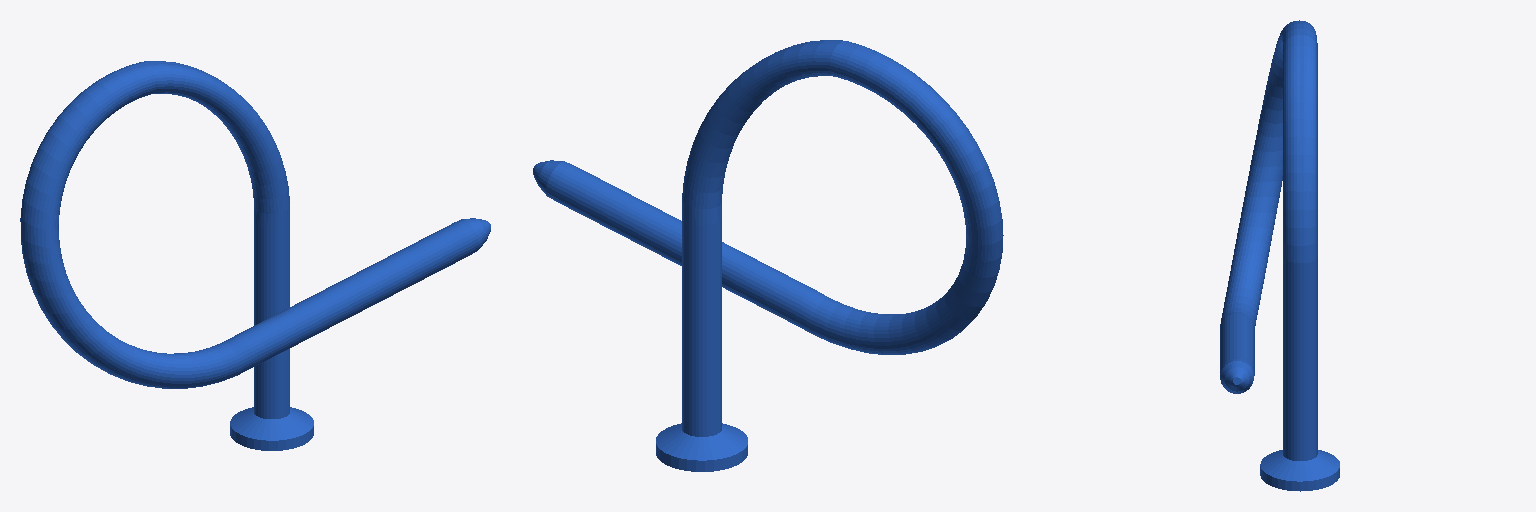
The robot description file, URDF, robot "nail_1":
<robot name="nail_1" version="1.0">
  <link name="nail_1_link">
    <collision name="geometry_0">
      <origin rpy="3.14159 -0.00000 3.14159" xyz="-0.17415 0.24814 0.07601"/>
      <geometry>
        <mesh filename="../meshes/obj/geometry_0.001.obj" scale="0.01000 0.01000 0.01000"/>
      </geometry>
    </collision>
    <collision name="geometry_1">
      <origin rpy="3.14159 -0.00000 3.14159" xyz="-0.17415 0.24814 0.07601"/>
      <geometry>
        <mesh filename="../meshes/obj/geometry_1.001.obj" scale="0.01000 0.01000 0.01000"/>
      </geometry>
    </collision>
    <collision name="geometry_10">
      <origin rpy="3.14159 -0.00000 3.14159" xyz="-0.17415 0.24814 0.07601"/>
      <geometry>
        <mesh filename="../meshes/obj/geometry_10.001.obj" scale="0.01000 0.01000 0.01000"/>
      </geometry>
    </collision>
    <collision name="geometry_2">
      <origin rpy="3.14159 -0.00000 3.14159" xyz="-0.17415 0.24814 0.07601"/>
      <geometry>
        <mesh filename="../meshes/obj/geometry_2.001.obj" scale="0.01000 0.01000 0.01000"/>
      </geometry>
    </collision>
    <collision name="geometry_3">
      <origin rpy="3.14159 -0.00000 3.14159" xyz="-0.17415 0.24814 0.07601"/>
      <geometry>
        <mesh filename="../meshes/obj/geometry_3.001.obj" scale="0.01000 0.01000 0.01000"/>
      </geometry>
    </collision>
    <collision name="geometry_4">
      <origin rpy="3.14159 -0.00000 3.14159" xyz="-0.17415 0.24814 0.07601"/>
      <geometry>
        <mesh filename="../meshes/obj/geometry_4.001.obj" scale="0.01000 0.01000 0.01000"/>
      </geometry>
    </collision>
    <collision name="geometry_5">
      <origin rpy="3.14159 -0.00000 3.14159" xyz="-0.17415 0.24814 0.07601"/>
      <geometry>
        <mesh filename="../meshes/obj/geometry_5.001.obj" scale="0.01000 0.01000 0.01000"/>
      </geometry>
    </collision>
    <collision name="geometry_6">
      <origin rpy="3.14159 -0.00000 3.14159" xyz="-0.17415 0.24814 0.07601"/>
      <geometry>
        <mesh filename="../meshes/obj/geometry_6.001.obj" scale="0.01000 0.01000 0.01000"/>
      </geometry>
    </collision>
    <collision name="geometry_7">
      <origin rpy="3.14159 -0.00000 3.14159" xyz="-0.17415 0.24814 0.07601"/>
      <geometry>
        <mesh filename="../meshes/obj/geometry_7.001.obj" scale="0.01000 0.01000 0.01000"/>
      </geometry>
    </collision>
    <collision name="geometry_8">
      <origin rpy="3.14159 -0.00000 3.14159" xyz="-0.17415 0.24814 0.07601"/>
      <geometry>
        <mesh filename="../meshes/obj/geometry_8.001.obj" scale="0.01000 0.01000 0.01000"/>
      </geometry>
    </collision>
    <collision name="geometry_9">
      <origin rpy="3.14159 -0.00000 3.14159" xyz="-0.17415 0.24814 0.07601"/>
      <geometry>
        <mesh filename="../meshes/obj/geometry_9.001.obj" scale="0.01000 0.01000 0.01000"/>
      </geometry>
    </collision>
    <inertial>
      <inertia ixx="0.00037" ixy="0.00001" ixz="0.00016" iyy="0.00070" iyz="-0.00002" izz="0.00037"/>
      <origin rpy="0.00000 0.00000 0.00000" xyz="-0.21590 0.23379 0.12047"/>
      <mass value="0.10000"/>
    </inertial>
    <visual name="Nail_Puzzle-Nail">
      <material name="turnarrow"/>
      <origin rpy="3.14159 -0.00000 3.14159" xyz="-0.17415 0.24814 0.07601"/>
      <geometry>
        <mesh filename="../meshes/obj/Nail_Puzzle-Nail.003.obj" scale="0.01000 0.01000 0.01000"/>
      </geometry>
    </visual>
  </link>
  <material name="turnarrow">
    <color rgba="0.23137 0.44706 0.80000 1.00000"/>
  </material>
</robot>

--- Render facts (derived) ---
Views: 3 orthographic renders of the robot side by side, from view 1: azimuth 30°, elevation 25°; view 2: azimuth 150°, elevation 25°; view 3: azimuth 270°, elevation 25°.
Robot: nail_1 — 1 links, 0 joints (none); root link nail_1_link; default pose: all joints at 0.
Links seen in each view (by area): view 1: nail_1_link; view 2: nail_1_link; view 3: nail_1_link.
Boxes of the visible links, x1,y1,x2,y2 form: nail_1_link: [20, 61, 490, 450]; nail_1_link: [533, 40, 1003, 471]; nail_1_link: [1220, 20, 1339, 491].
Size in the robot's own frame: 0.2807 by 0.0693 by 0.242 metres.
1 mesh visuals loaded from 1 distinct referenced files (1 OBJ).